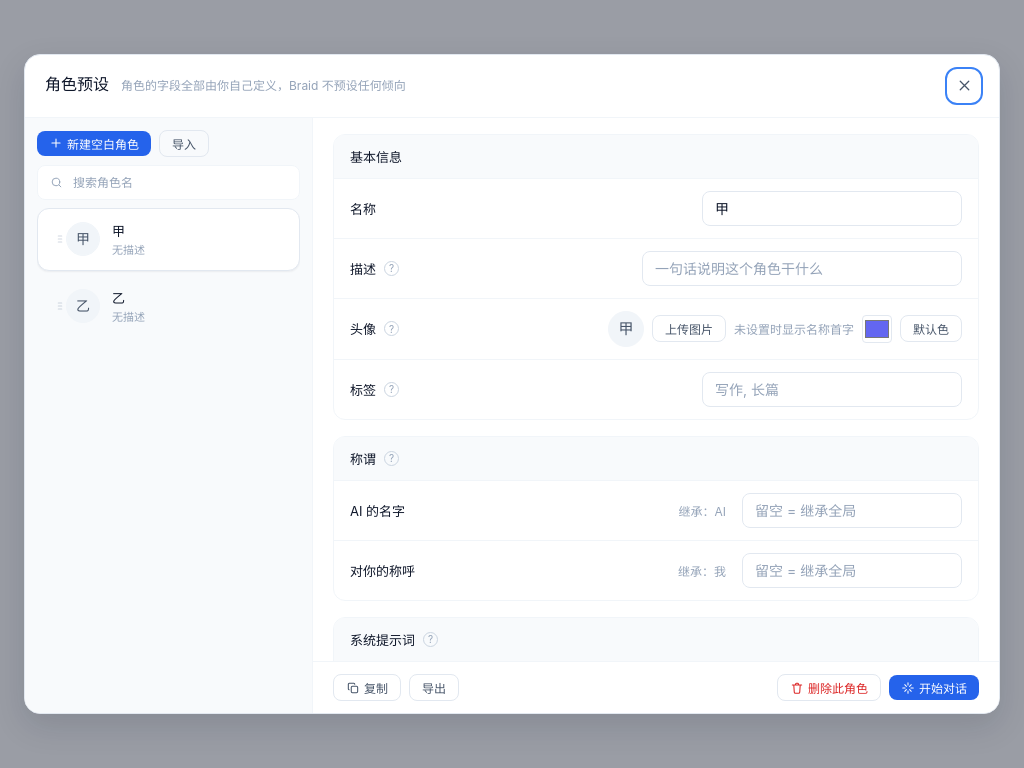
Test: 角色面板：未保存的草稿 › "留下继续编辑"把提示收起，草稿一字不动
Replace the text in the field showing "甲" with "甲（改）" at (832, 208), box [702,191,962,226]
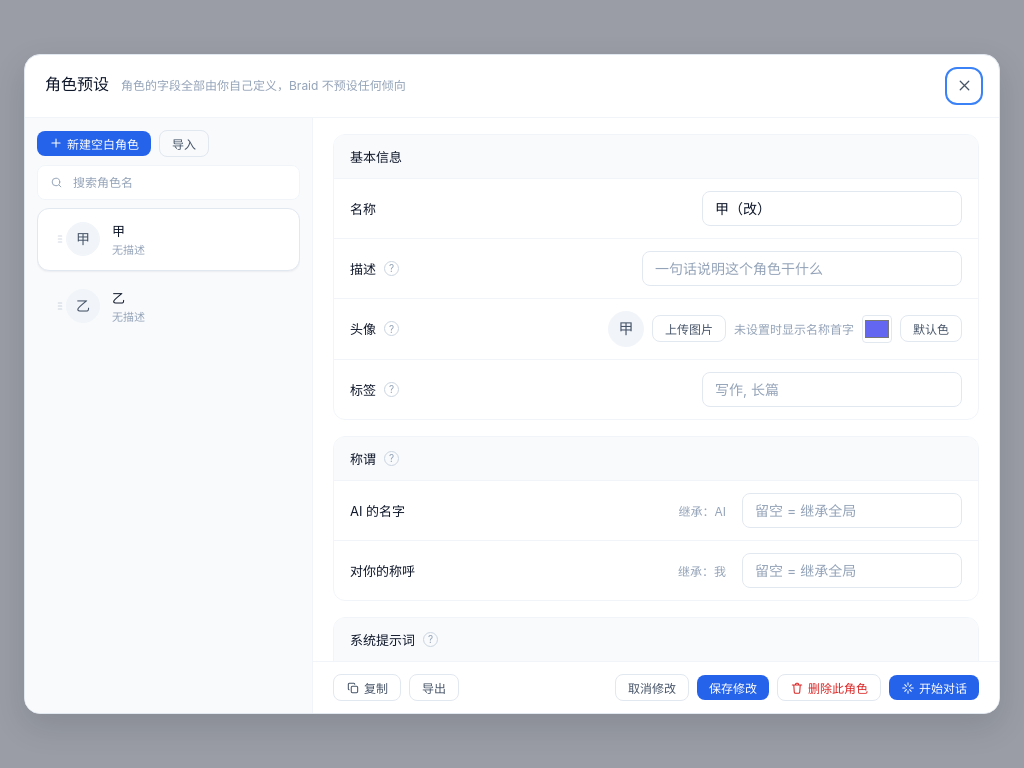
Click the button "乙 乙 无描述" at (83, 306), box [37,275,300,337]
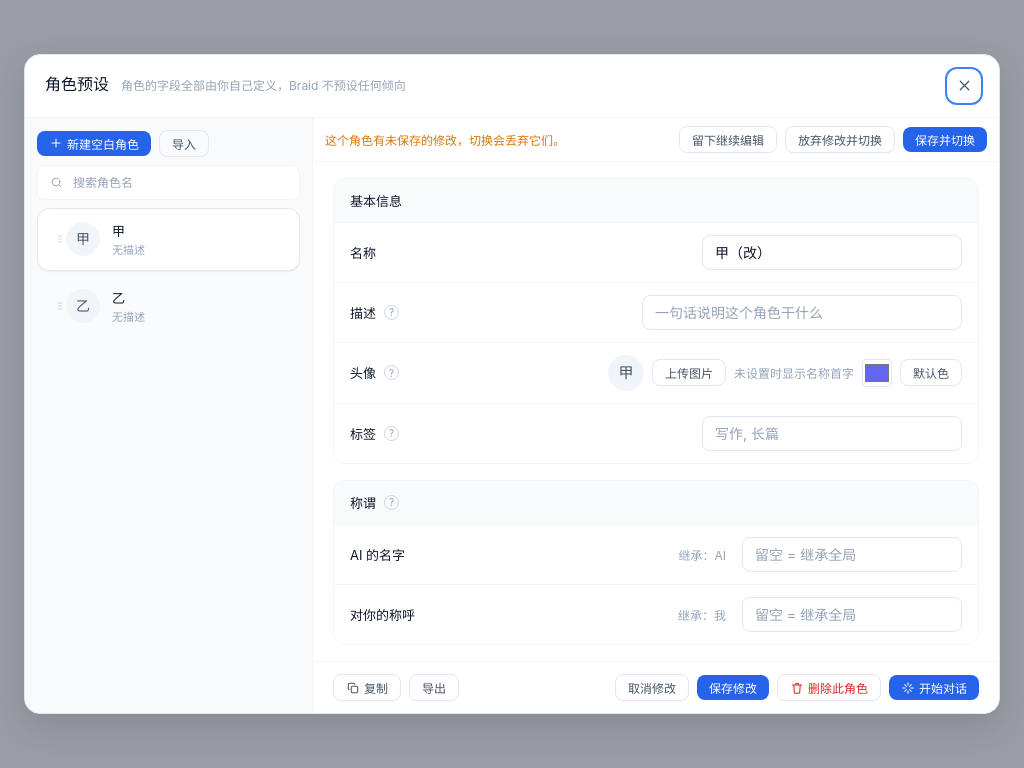
Click the button "留下继续编辑" at (728, 139), box [679,126,777,153]
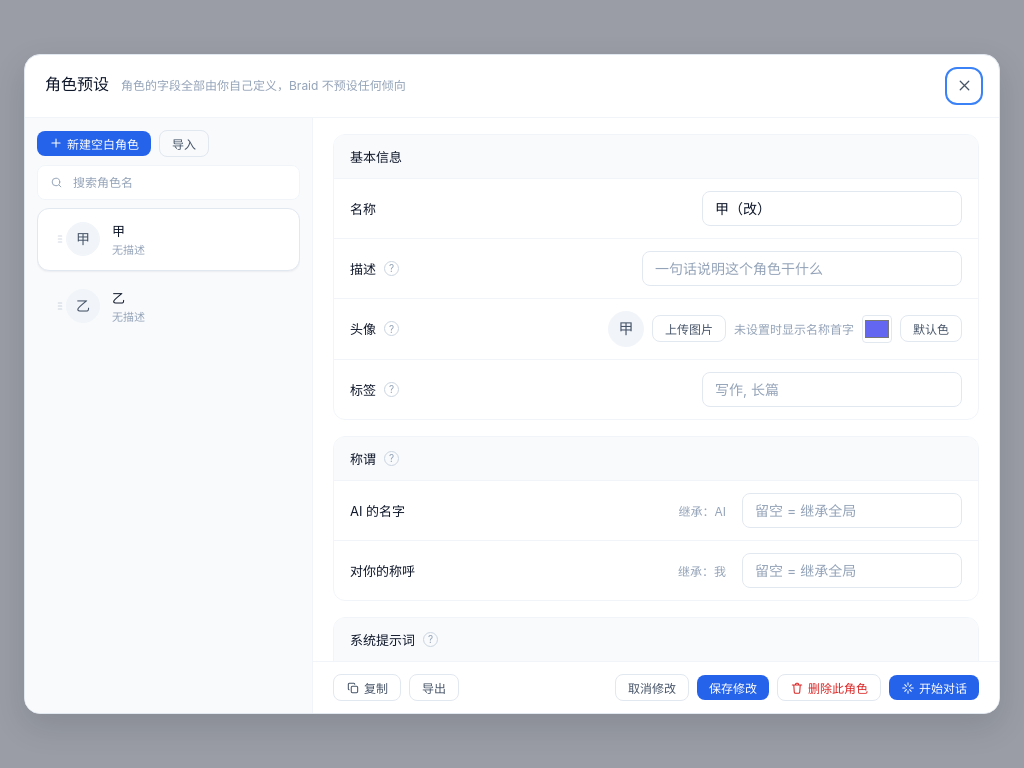
Result: the text "有未保存的修改" is gone
